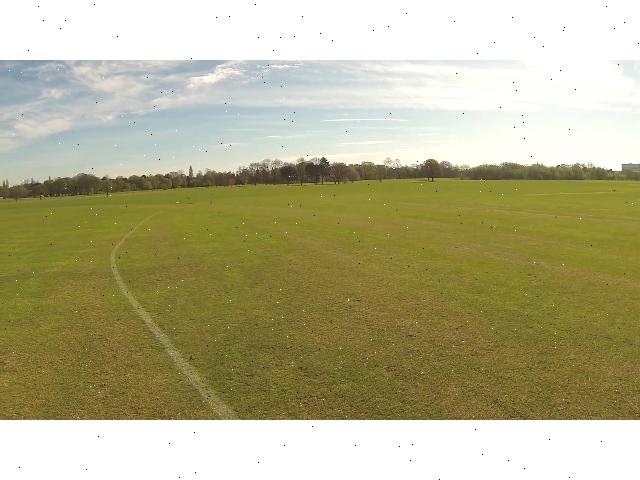Anti-Drone: (382, 159, 400, 173)
